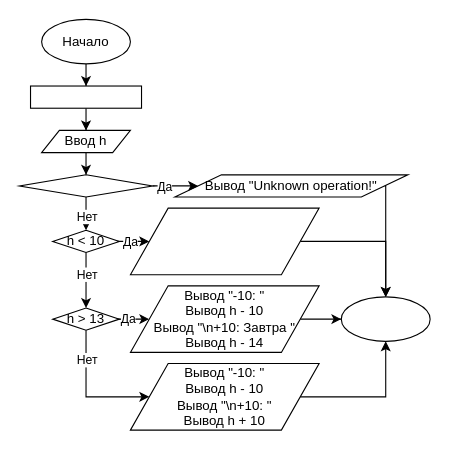
The diagram is 450 pixels wide and 450 high, and some of its shapes have lost their labels. Each missing label, with the centre of its shape:
h < 0 || h > 23: point (85, 185)
Вывод "-10: Вчера " Вывод 24 + (h - 10) Вывод "\n+10: " Вывод h + 10: point (224, 241)
Конец: point (385, 318)
Целое число h: point (85, 96)
